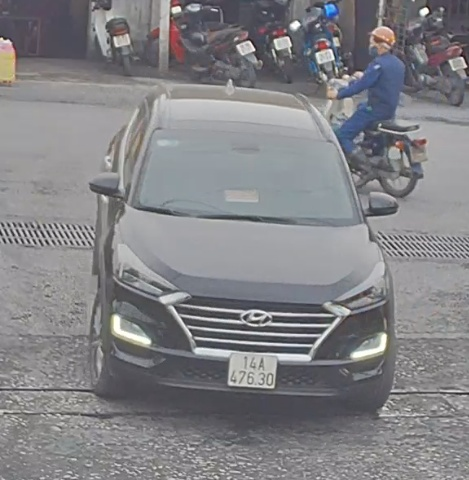vehicle plate: (222, 348, 284, 394)
